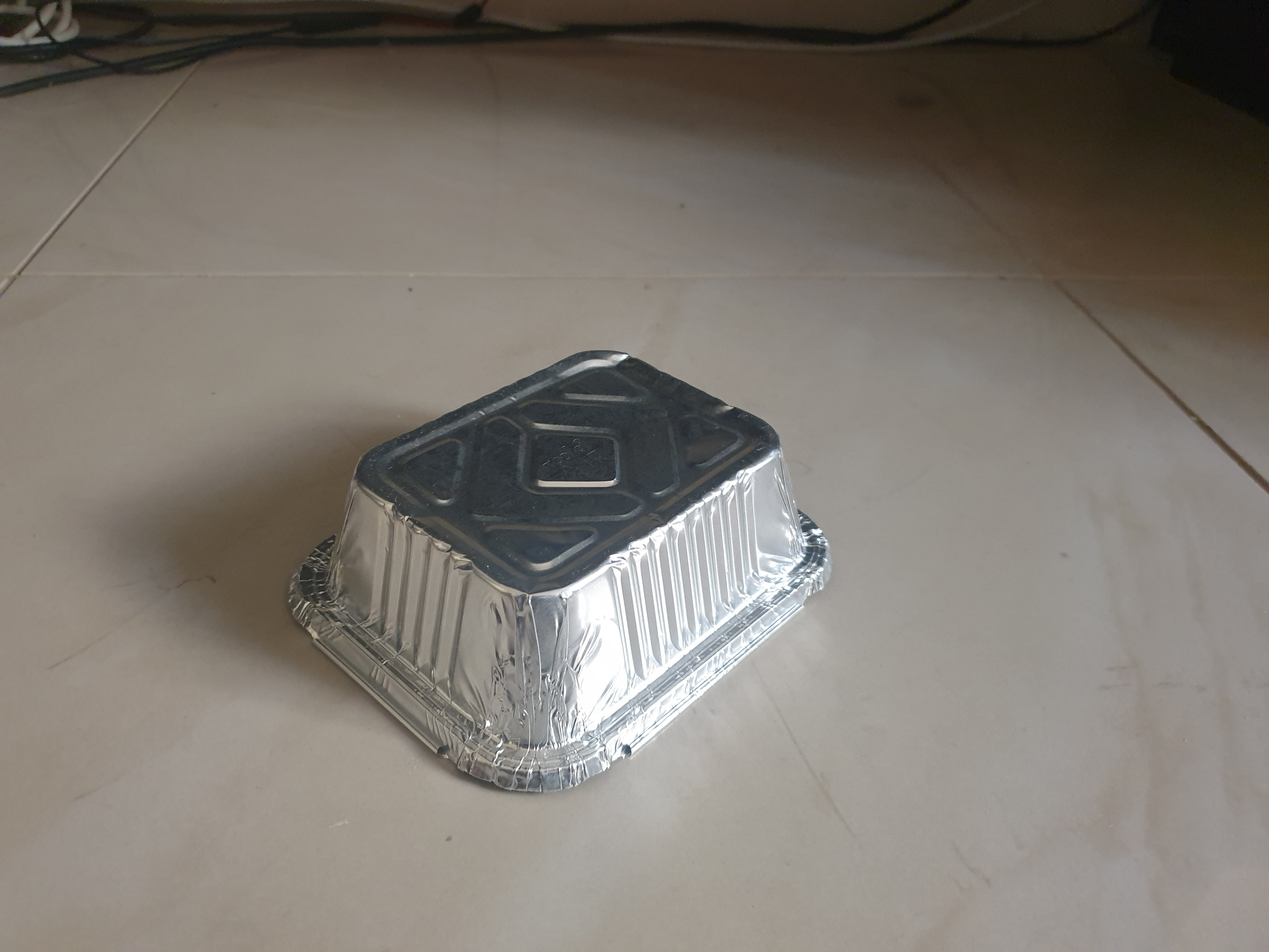Metal: (279, 336, 843, 804)
